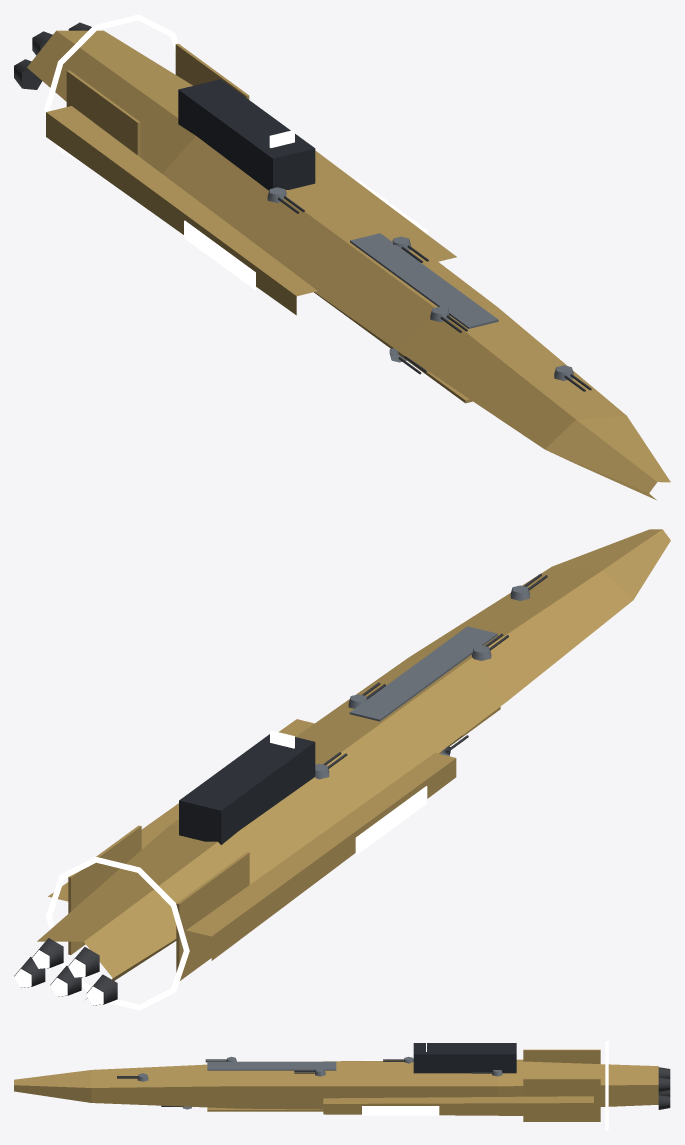
The model's file is space_ship_cruiser_mk7_lod1.glb.
3 views of the same model, one above another, from view 1: azimuth 30°, elevation 25°; view 2: azimuth 150°, elevation 25°; view 3: azimuth 270°, elevation 25° (orthographic). The views are drawn at different scales.
Visible parts, largest first — view 1: body, hangar_r; view 2: body, hangar_r; view 3: body, hangar_l, engine_3, engine_4, turret_4.
Part boxes in pixels (<box>): body: <box>27,14,670,500</box>; hangar_r: <box>184,220,255,290</box>; body: <box>37,529,670,1010</box>; hangar_r: <box>355,786,427,855</box>; body: <box>14,1039,658,1130</box>; hangar_l: <box>362,1106,439,1115</box>; engine_3: <box>658,1077,670,1092</box>; engine_4: <box>658,1094,670,1109</box>; turret_4: <box>294,1068,325,1076</box>.
Bounding box in the file's own units: 18.56 × 15.59 × 112.
